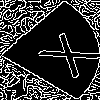X: (25, 24, 100, 80)
